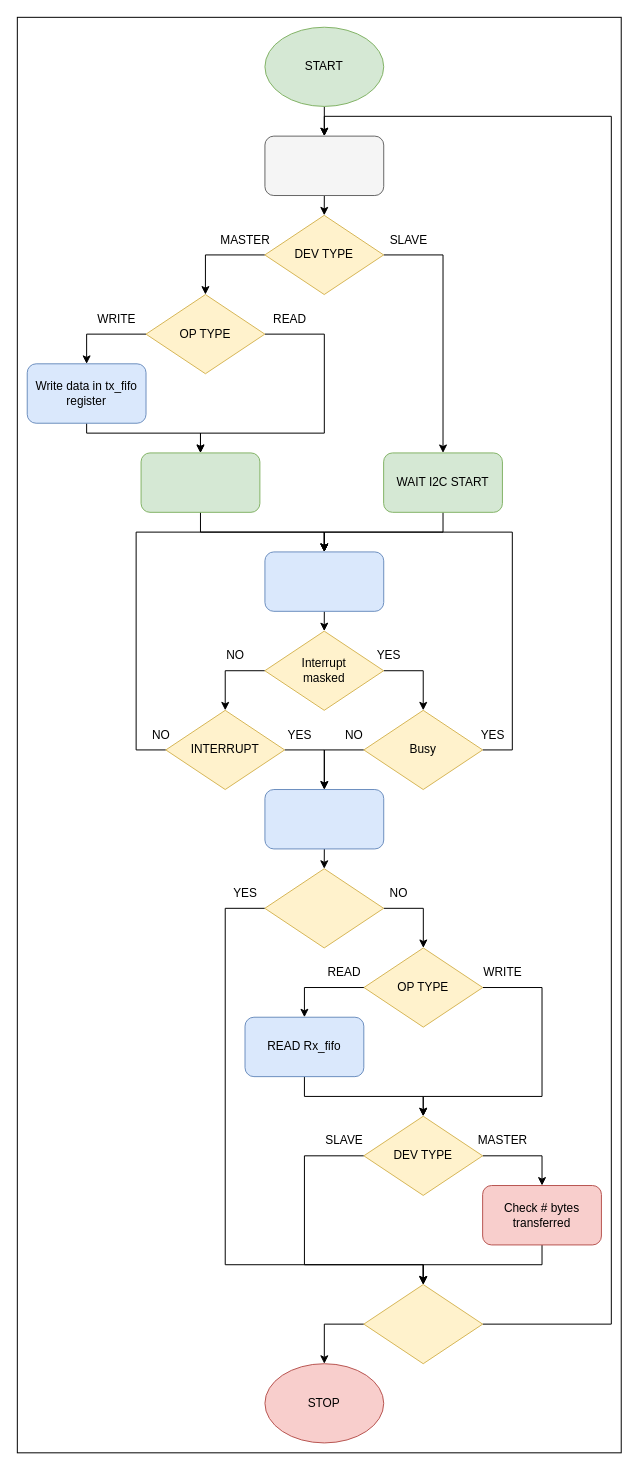
This 639x1470 diagram has some shape labels left out. The box of each missing label's shape, as (x1, y1, x2, y2) in pixels:
configure DUT: (264, 135, 384, 196)
FAIL: (264, 868, 384, 948)
READ IRQ: (264, 789, 384, 849)
Read status register: (264, 551, 384, 611)
Reconfigure?: (363, 1284, 483, 1364)
START DUT: (140, 452, 260, 512)
